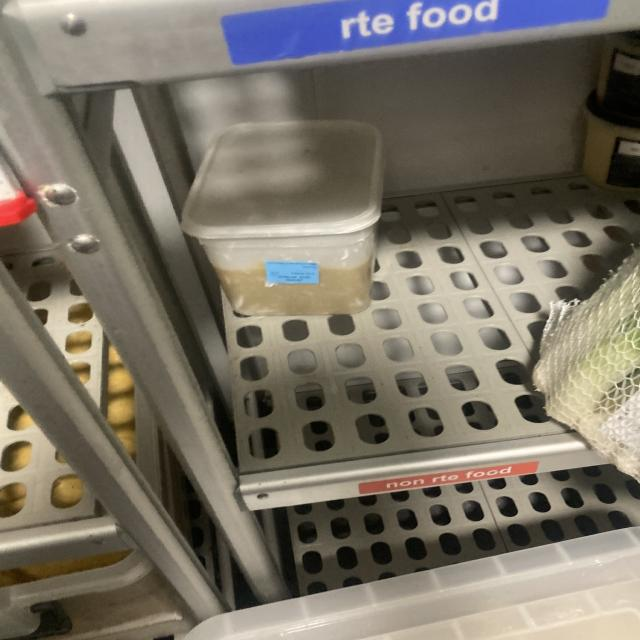product-labels: (265, 260, 319, 283)
